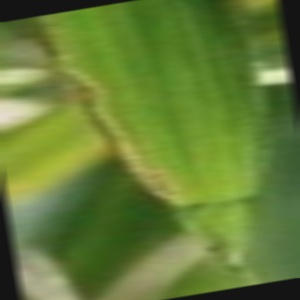Leaf_Blast: (63, 1, 261, 274)
